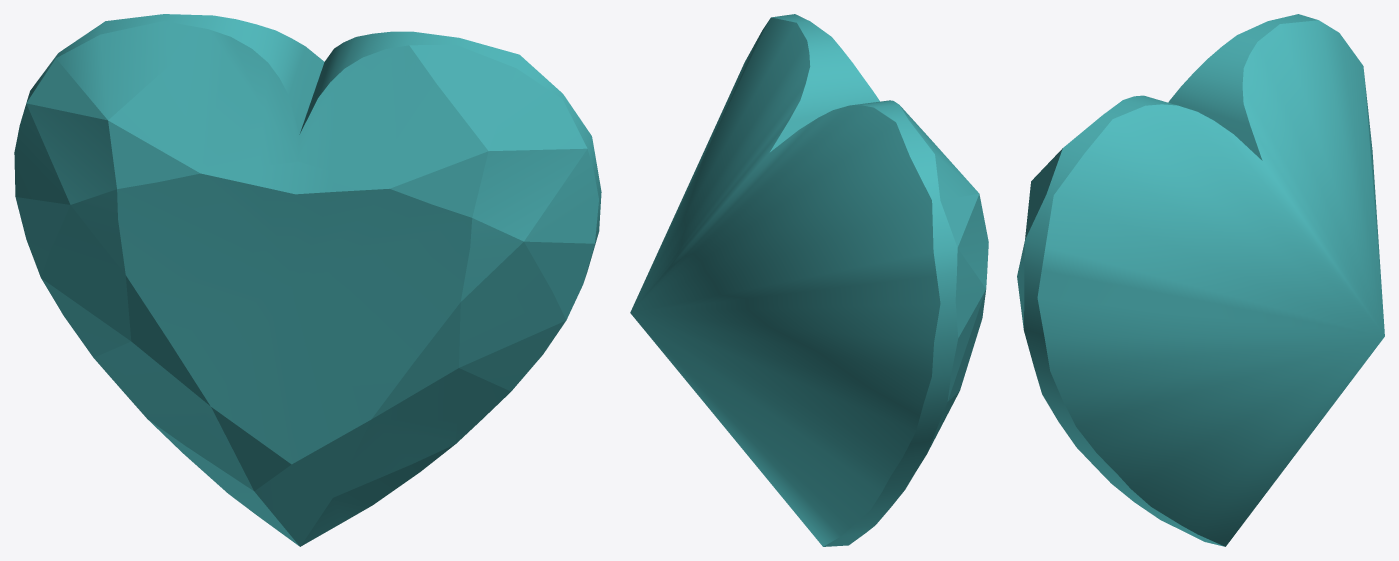
File: BL3_8shapes_heart_Classic_Stone.001 3.glb
3 views of the same model, side by side, from view 1: azimuth 30°, elevation 25°; view 2: azimuth 150°, elevation 25°; view 3: azimuth 270°, elevation 25° (orthographic). The views are drawn at different scales.
Visible parts, largest first — view 1: BL3_8shapes_heart_Classic_Stone.001; view 2: BL3_8shapes_heart_Classic_Stone.001; view 3: BL3_8shapes_heart_Classic_Stone.001.
Part boxes in pixels (box(x1,y1,x2,y2)): BL3_8shapes_heart_Classic_Stone.001: box(14, 14, 601, 546); BL3_8shapes_heart_Classic_Stone.001: box(630, 14, 988, 546); BL3_8shapes_heart_Classic_Stone.001: box(1017, 14, 1384, 546).
Bounding box in the file's own units: 0.3861 × 0.4682 × 0.328.
